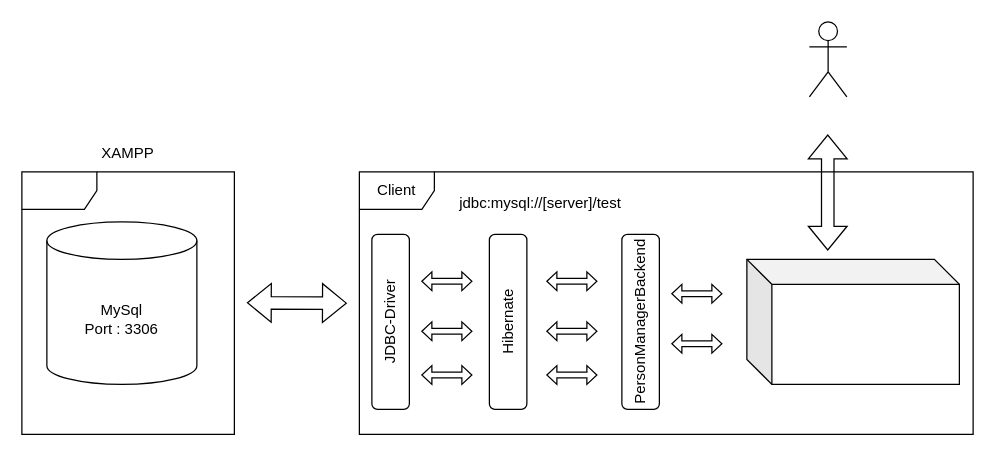
This 995x456 diagram has some shape labels left out. The box of each missing label's shape, as (x1, y1, x2, y2) in pixels:
Actor: (808, 21, 847, 97)
PersonManagerFrontend: (746, 258, 959, 384)
Server: (21, 171, 234, 434)
